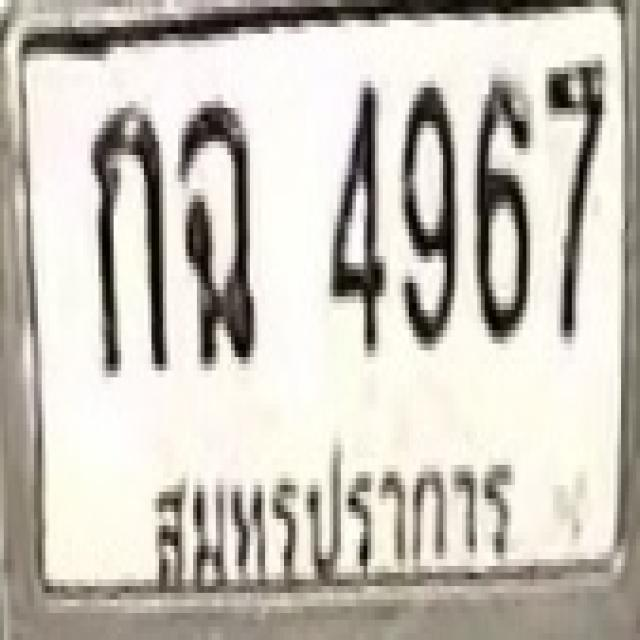4: (326, 74, 382, 350)
6: (472, 74, 528, 337)
7: (542, 54, 602, 337)
9: (398, 77, 454, 347)
A01: (87, 101, 167, 371)
A09: (178, 94, 254, 364)
SPK: (146, 438, 522, 586)
